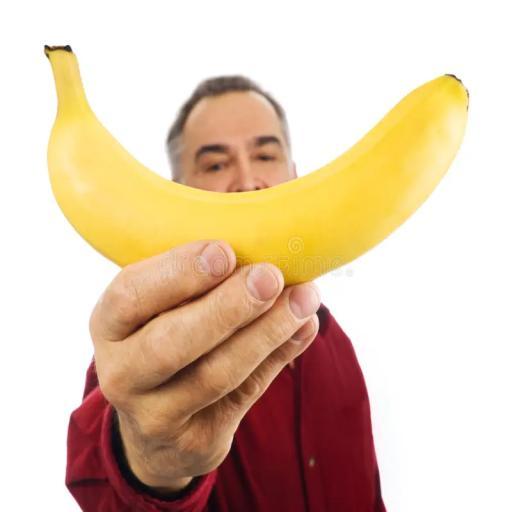banana: (45, 46, 468, 285)
